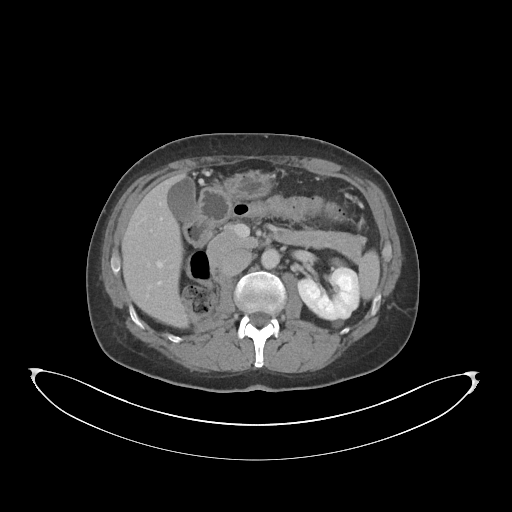Lesion: (329, 315, 343, 328)
